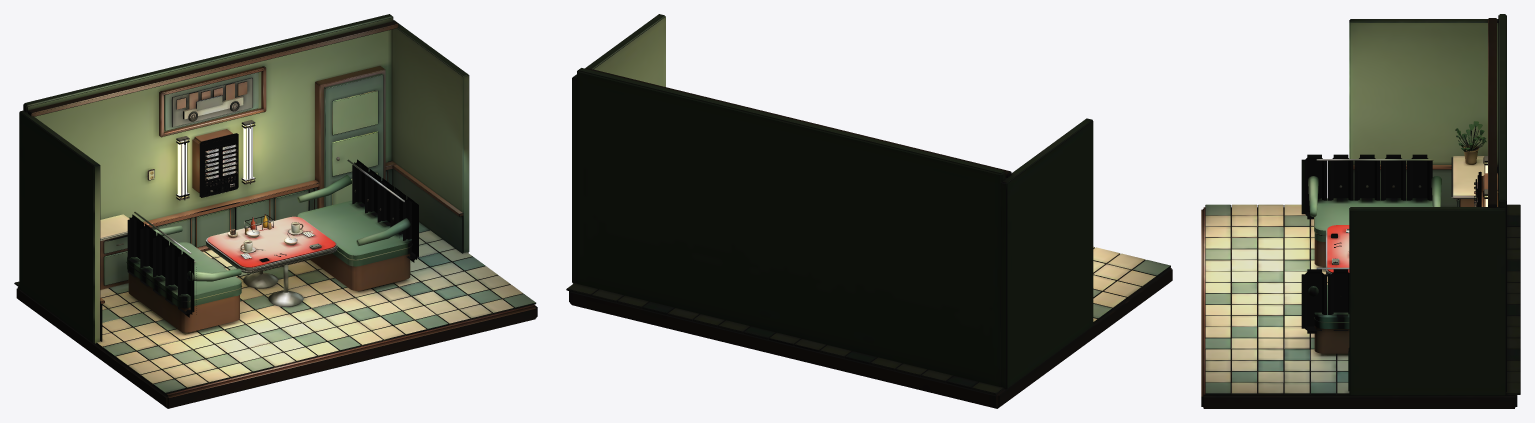
Rendered from vintage-diner.glb.
3 views of the same model, side by side, from view 1: azimuth 30°, elevation 25°; view 2: azimuth 150°, elevation 25°; view 3: azimuth 270°, elevation 25° (orthographic). The views are drawn at different scales.
Visible parts, largest first — view 1: Diner_Baked_Static, DinerPracticalLeft, DinerPracticalRight; view 2: Diner_Baked_Static; view 3: Diner_Baked_Static.
Part boxes in pixels (left/top/right/bottom): Diner_Baked_Static: left=14, top=14, right=537, bottom=408; DinerPracticalLeft: left=177, top=140, right=186, bottom=194; DinerPracticalRight: left=243, top=124, right=252, bottom=179; Diner_Baked_Static: left=566, top=14, right=1172, bottom=408; Diner_Baked_Static: left=1201, top=14, right=1520, bottom=408.
Bounding box in the file's own units: 8.59 × 4.37 × 6.06.
Materials: 2 (1 with a texture image).
